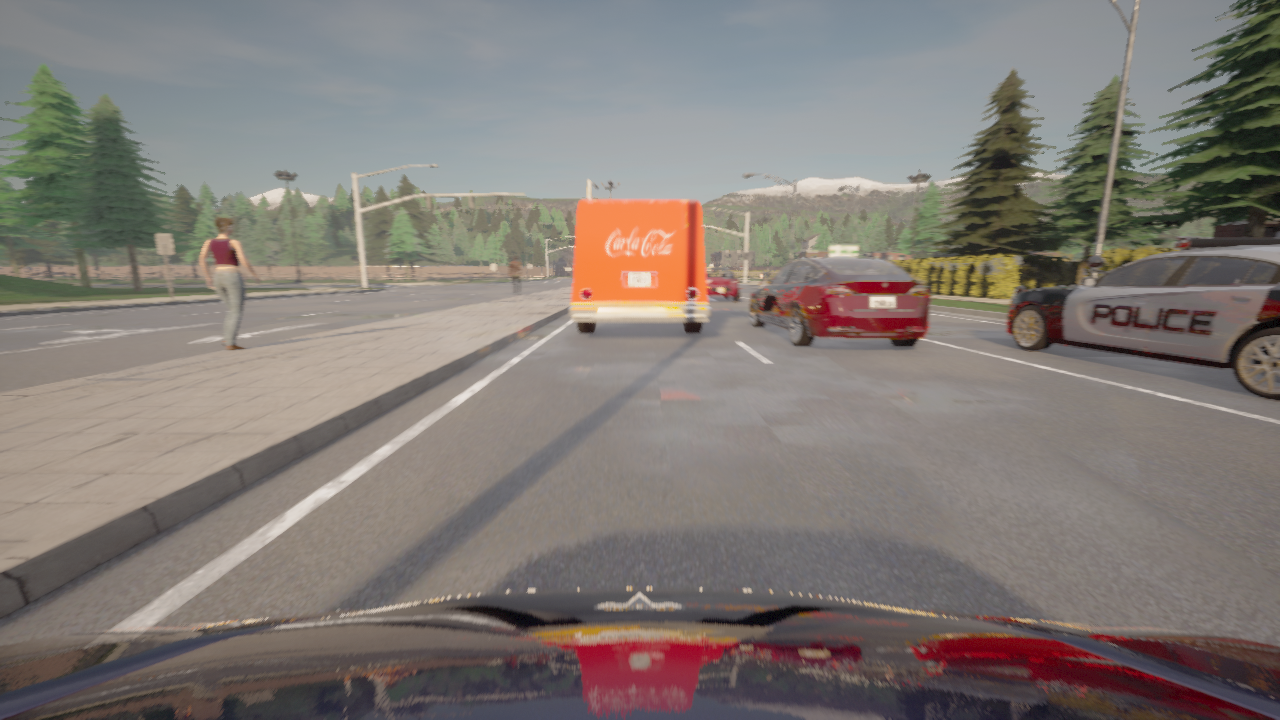cyclist: (0, 588, 1279, 719), (1007, 236, 1279, 400), (570, 200, 711, 333), (750, 257, 932, 346), (705, 267, 739, 301)
pedestrian: (200, 216, 260, 350), (509, 255, 521, 297)
